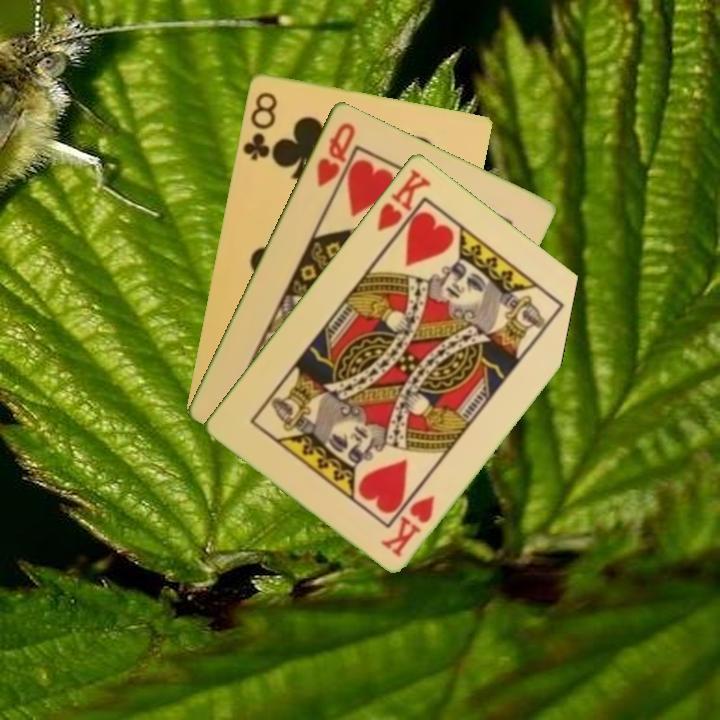8c: (239, 88, 280, 163)
Kh: (373, 164, 434, 246), (377, 491, 438, 559)
Qh: (312, 118, 358, 189)
